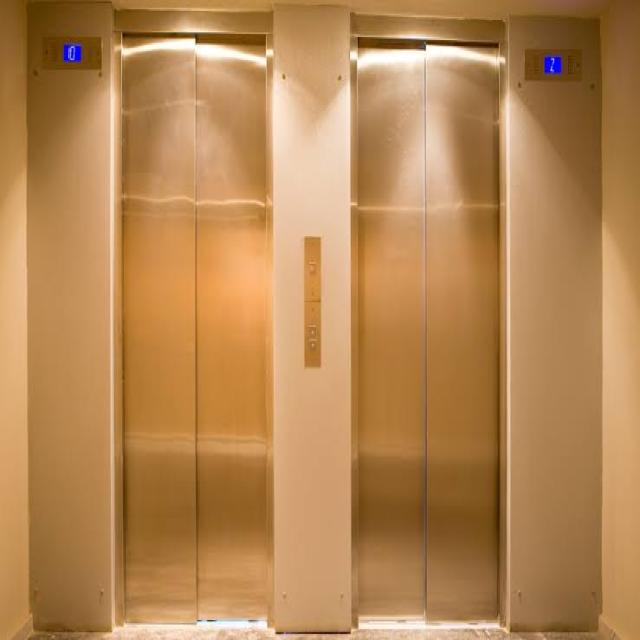elevator: (32, 0, 586, 626)
